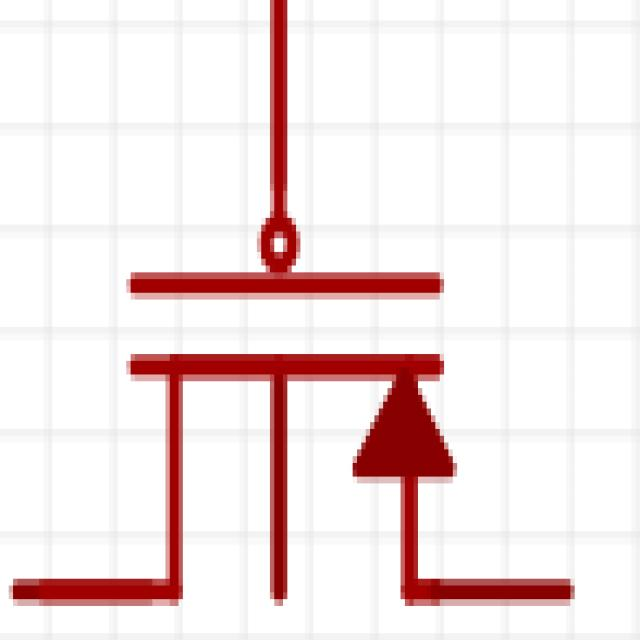pmos: (6, 53, 594, 640)
